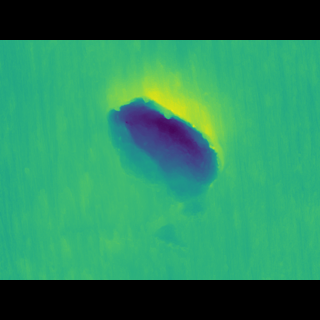Loch: (100, 103, 236, 204)
